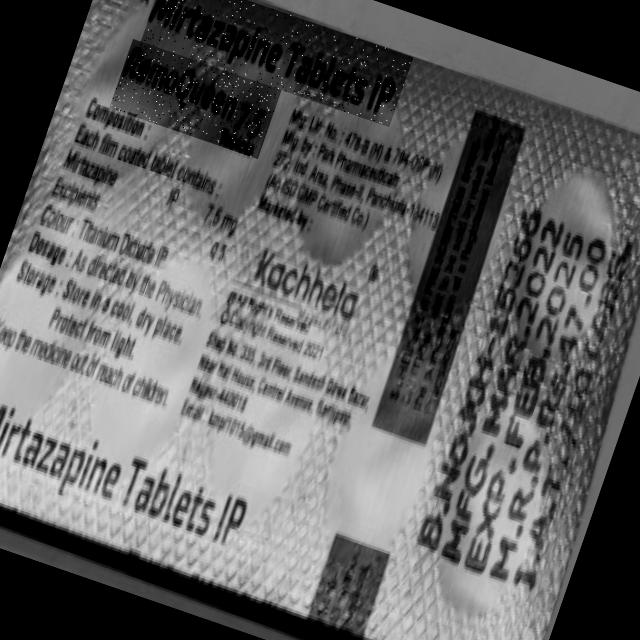Medicine-name: (141, 1, 414, 128), (110, 40, 282, 160)
